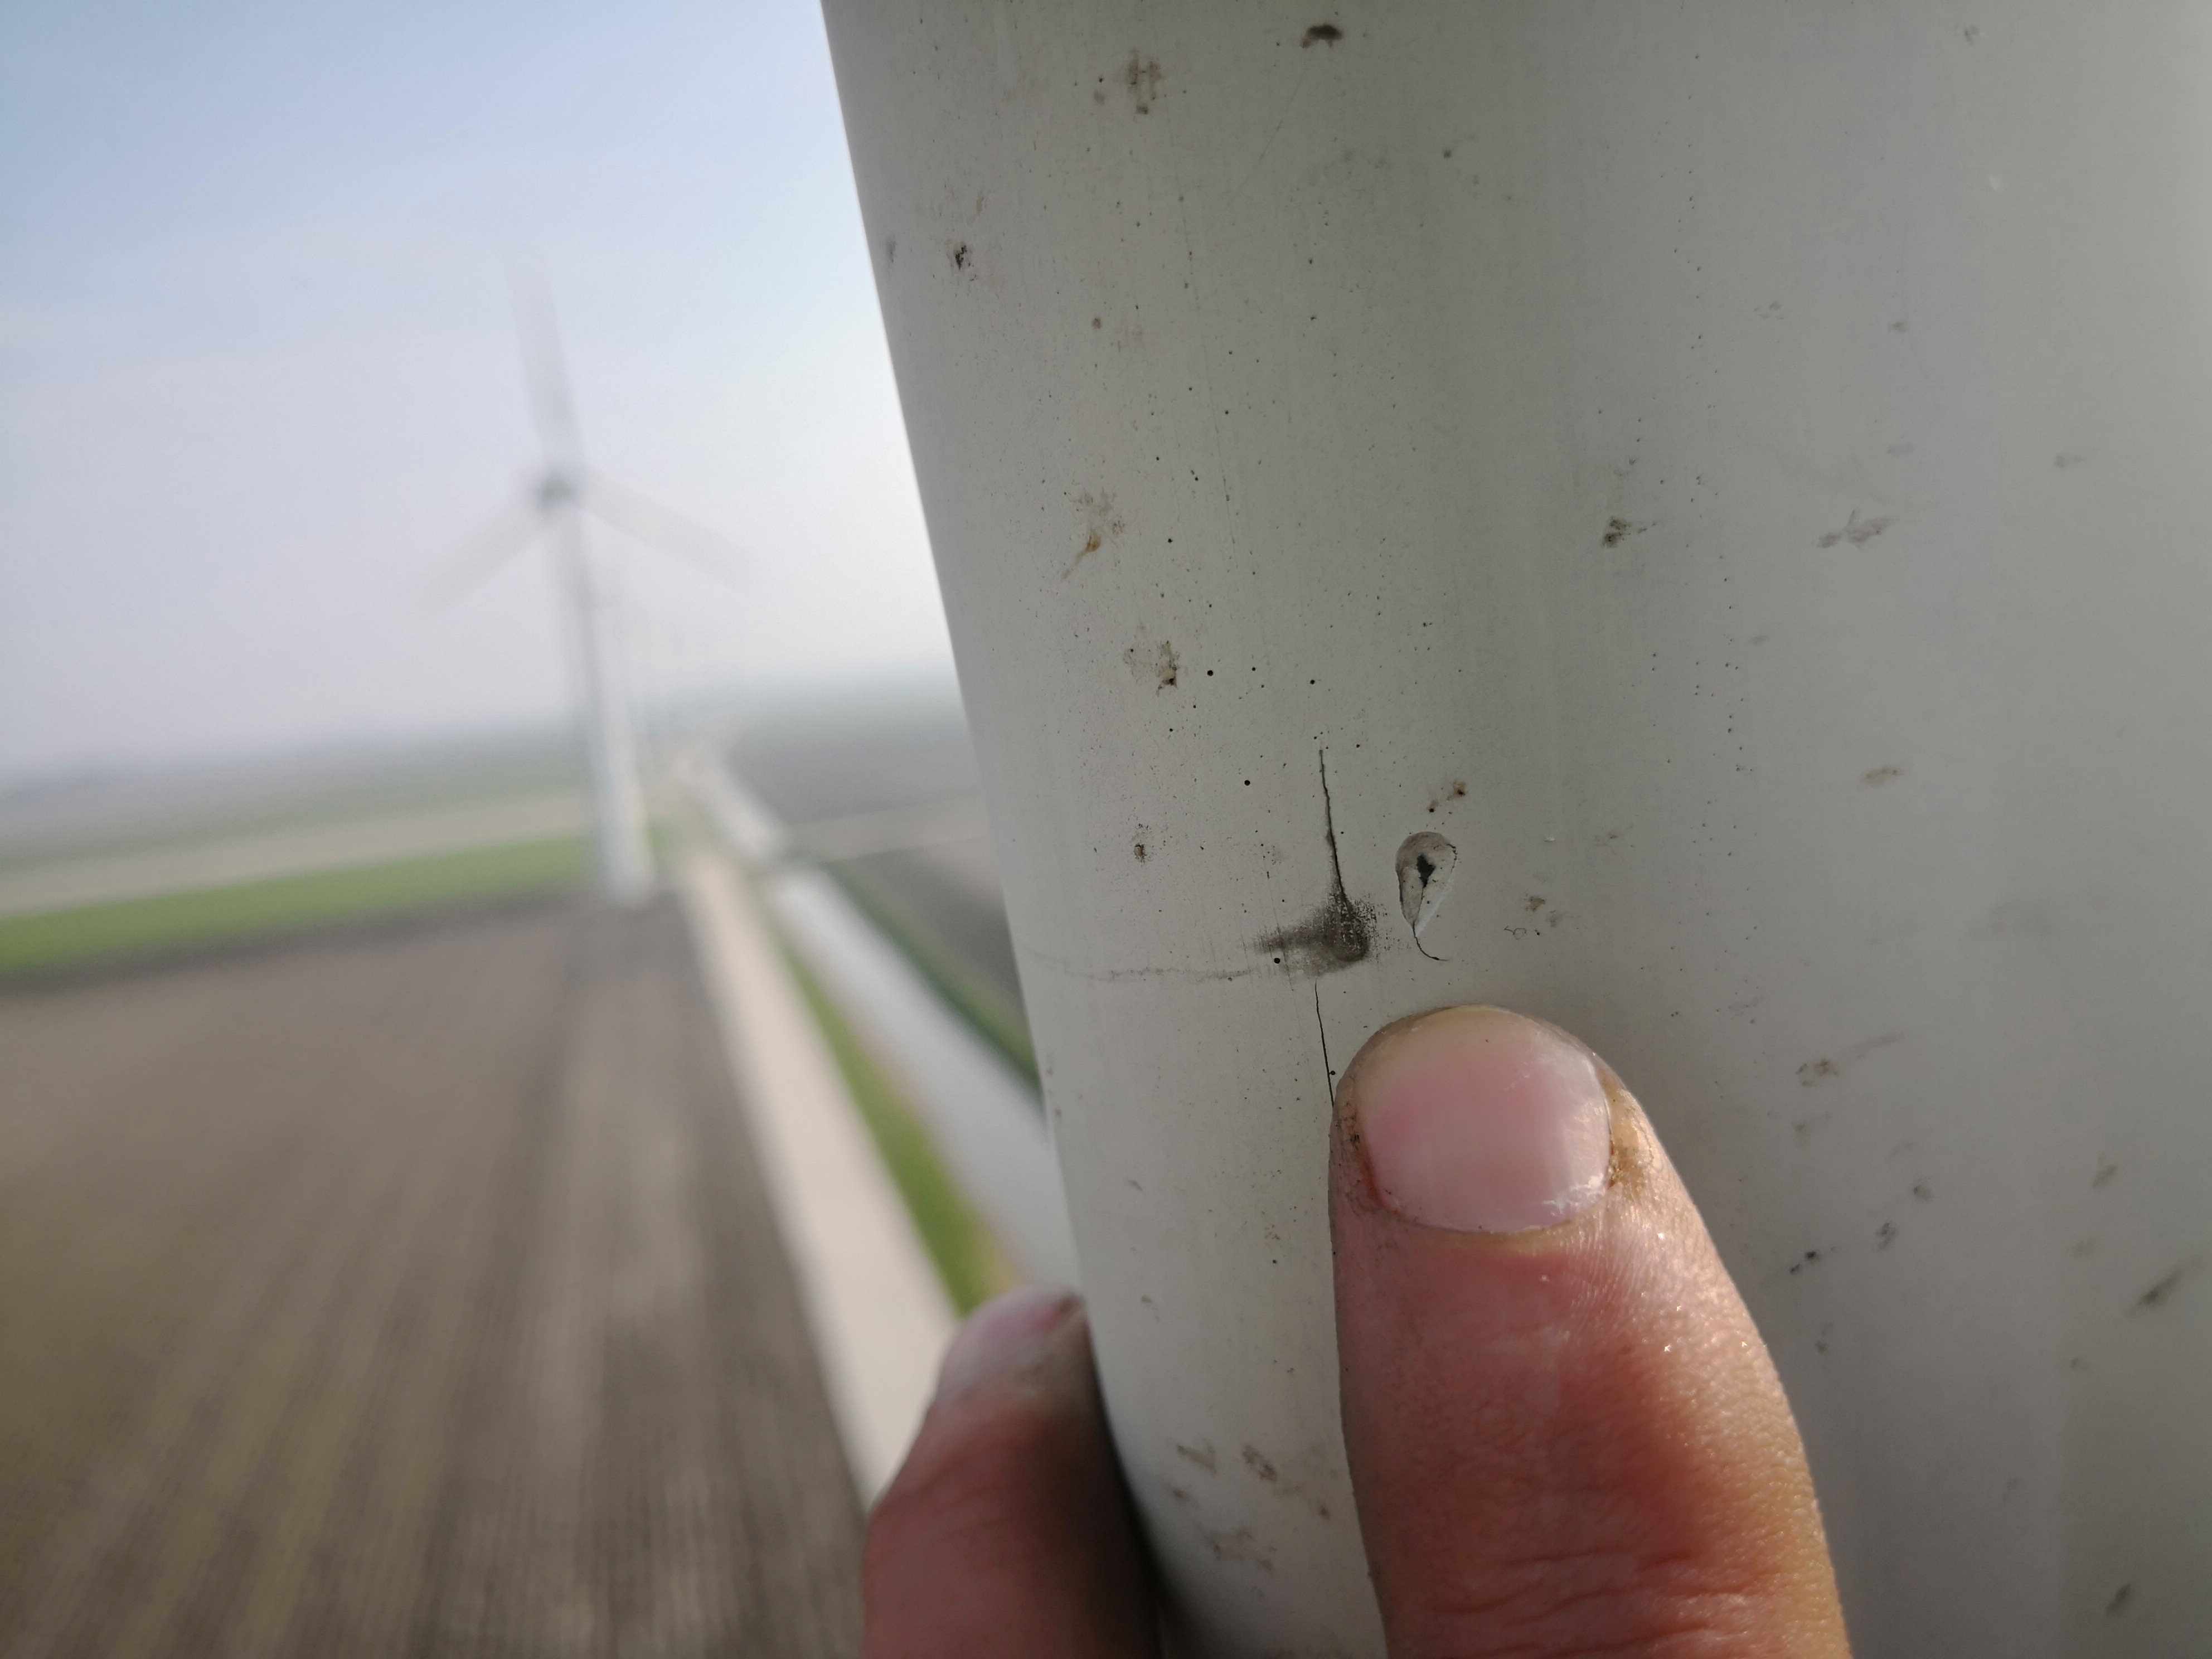SD: (1214, 732, 1494, 983)
